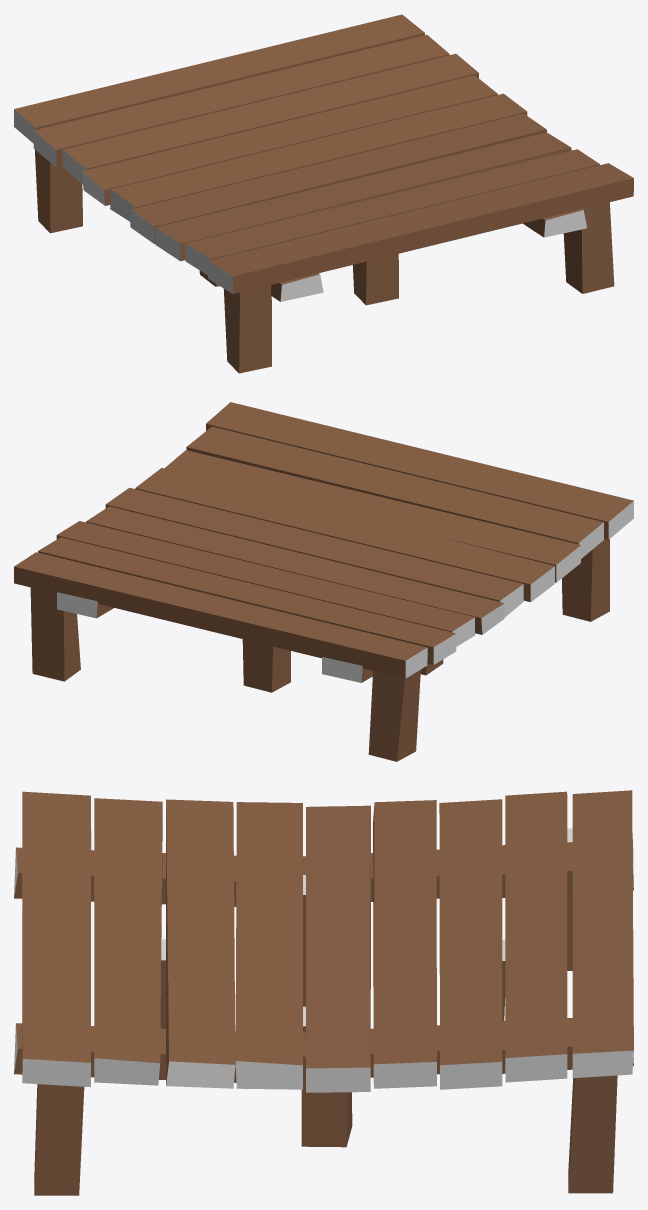
The model's file is WoodPlatform.fbx.
3 renders of one model, top to bottom at view 1: azimuth 30°, elevation 25°; view 2: azimuth 150°, elevation 25°; view 3: azimuth 270°, elevation 25°, orthographic. The views are drawn at different scales.
Parts seen in each view (by area): view 1: WoodPlatform; view 2: WoodPlatform; view 3: WoodPlatform.
Boxes of the visible parts, x1,y1,x2,y2 form: WoodPlatform: (14, 14, 633, 373); WoodPlatform: (14, 402, 633, 761); WoodPlatform: (14, 790, 633, 1195).
Size of the model in its own units: 584 by 153 by 572.
